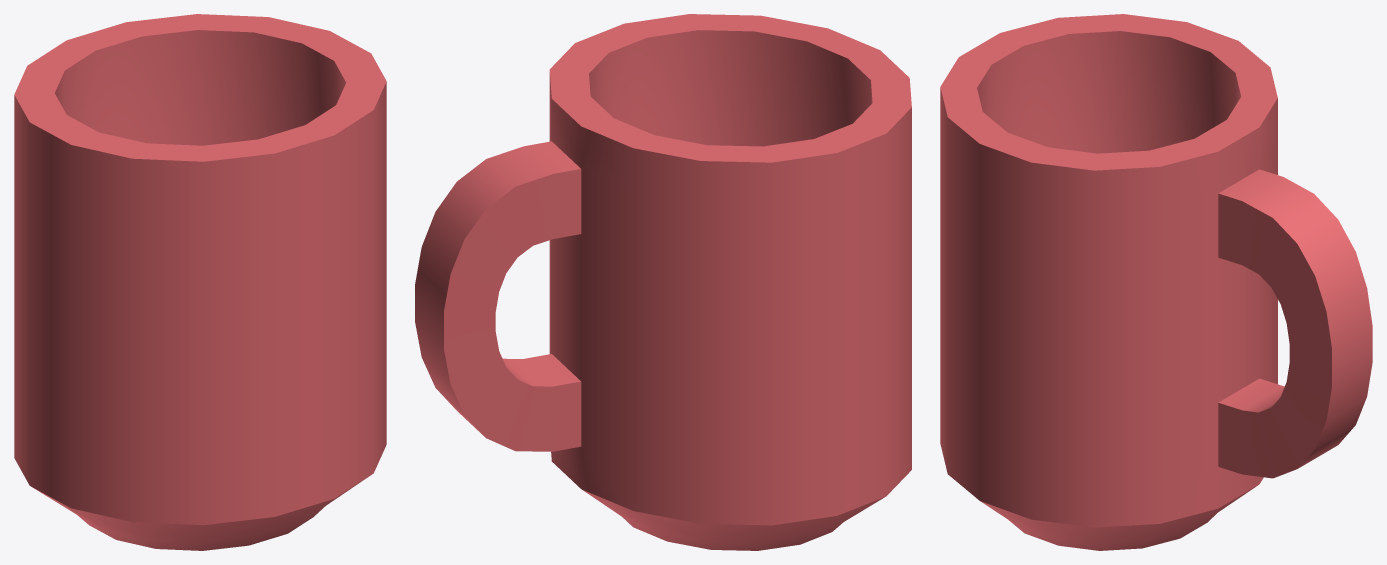
File: mugRed.fbx
3 renders of one model, left to right at view 1: azimuth 30°, elevation 25°; view 2: azimuth 150°, elevation 25°; view 3: azimuth 270°, elevation 25°, orthographic.
Parts seen in each view (by area): view 1: Circle; view 2: Circle; view 3: Circle.
Boxes of the visible parts, box(x1,y1,x2,y2) form: Circle: box(14, 14, 386, 550); Circle: box(415, 14, 911, 550); Circle: box(940, 14, 1372, 550).
Size of the model in its own units: 45.63 by 49.4 by 47.48.
